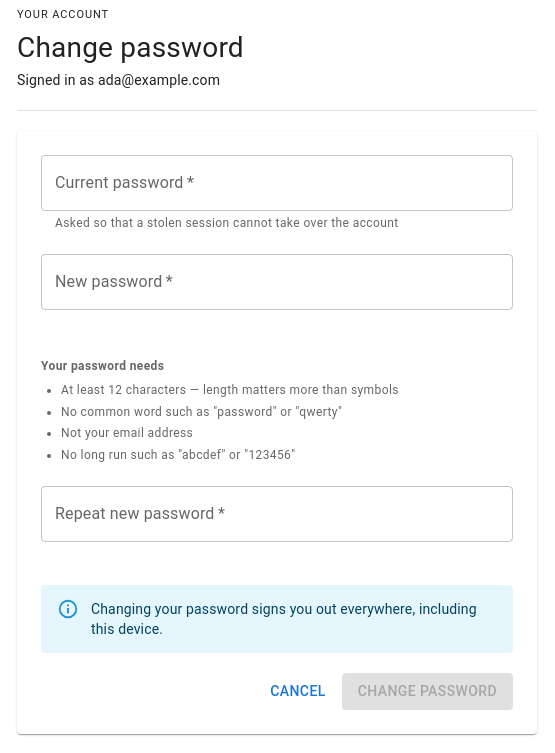
ChangePasswordPage › refuses to submit when the repeated password does not match
Type "current-password" into the password field labelled "Current password *".
click(277, 183); type("current-password")  # box x1=41 y1=155 x2=513 y2=211
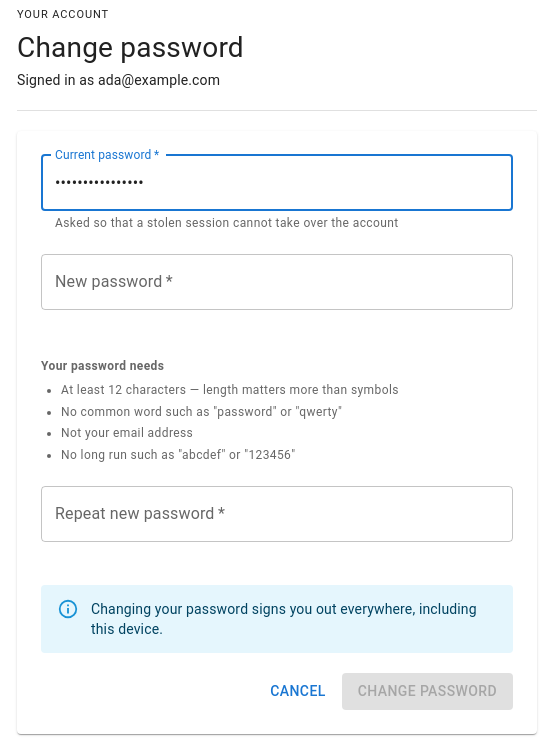
Type "a-brand-new-password" into the password field labelled "New password *".
click(277, 282); type("a-brand-new-password")  # box x1=41 y1=254 x2=513 y2=310
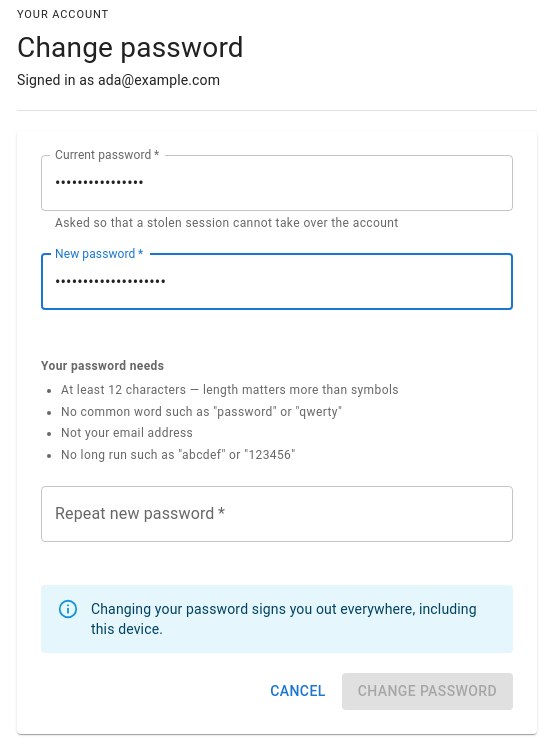
Type "a-brand-new-passward" into the password field labelled "Repeat new password *".
click(277, 514); type("a-brand-new-passward")  # box x1=41 y1=486 x2=513 y2=542
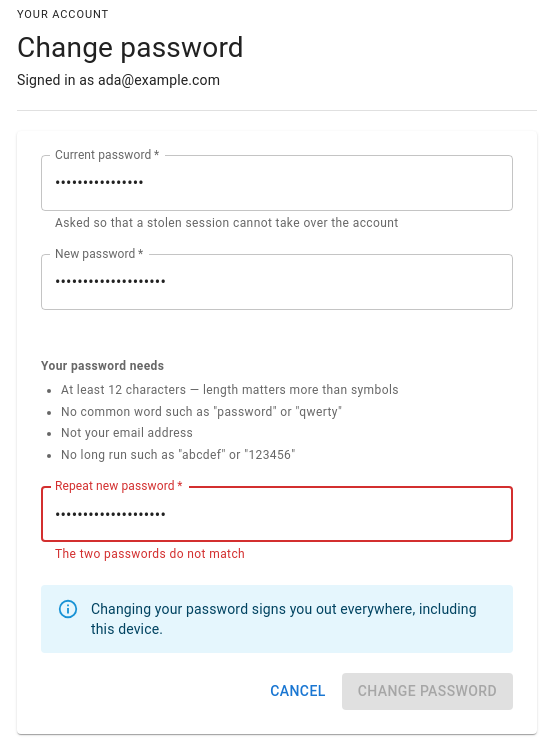
Expected: the button "Change password" is disabled, x1=342 y1=673 x2=513 y2=710
Expected: the text "The two passwords do not match" is shown, x1=55 y1=547 x2=245 y2=561
